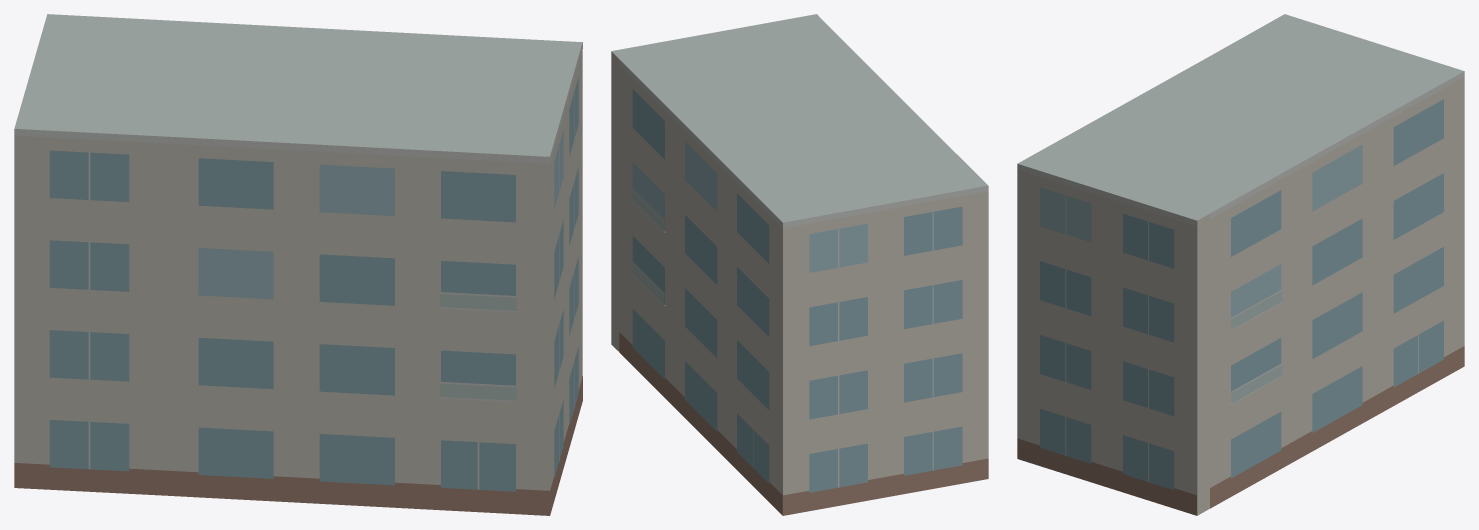
Rendered from survey-upis-32817275.glb.
The picture shows the model from 3 angles, left to right: view 1: azimuth 30°, elevation 25°; view 2: azimuth 150°, elevation 25°; view 3: azimuth 270°, elevation 25°; orthographic projection. The views are drawn at different scales.
Visible parts, largest first — view 1: survey-upis-32817275.tmp; view 2: survey-upis-32817275.tmp; view 3: survey-upis-32817275.tmp.
Part boxes in pixels (<box>): survey-upis-32817275.tmp: <box>14,14,582,515</box>; survey-upis-32817275.tmp: <box>611,14,988,515</box>; survey-upis-32817275.tmp: <box>1017,14,1464,515</box>.
Size of the model in its own units: 19.08 by 12.7 by 17.45.
